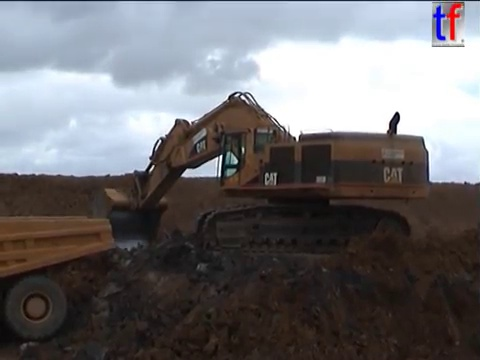excavator: (88, 89, 433, 260)
truck: (1, 213, 118, 341)
